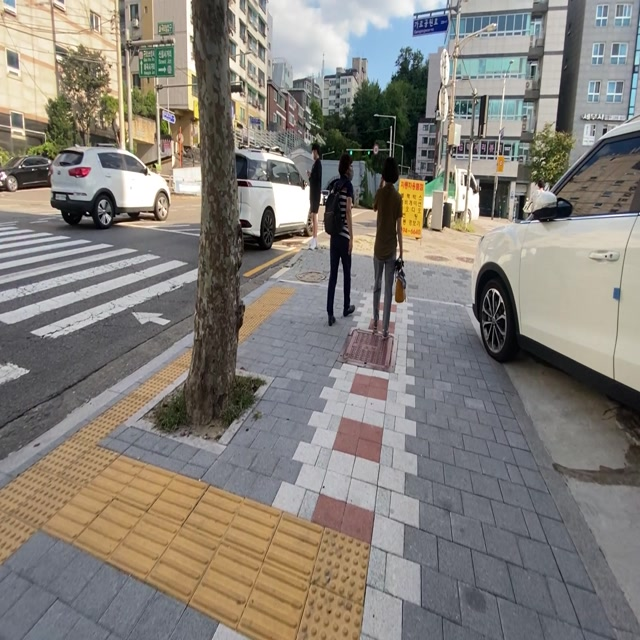Pedestrian: (371, 158, 402, 332), (324, 155, 353, 325), (523, 180, 556, 215)
Vehicle: (470, 115, 636, 404), (48, 146, 170, 227), (236, 150, 309, 249), (1, 156, 50, 190), (447, 170, 477, 216)
